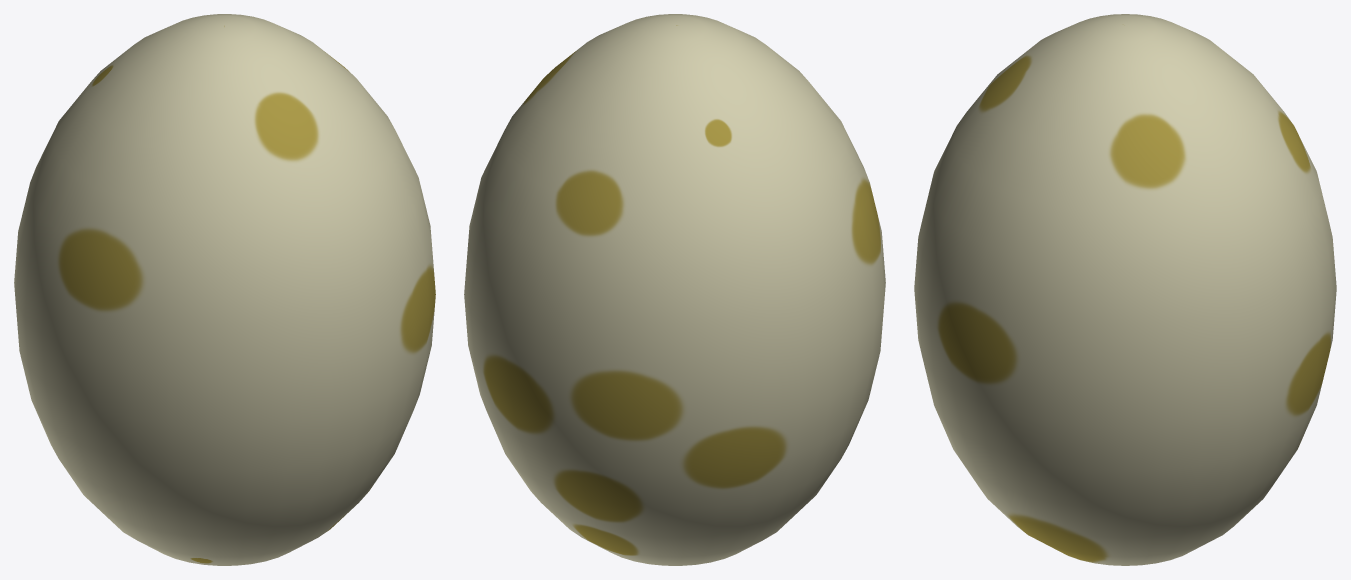
Rendered from egg.fbx.
3 views of the same model, side by side, from view 1: azimuth 30°, elevation 25°; view 2: azimuth 150°, elevation 25°; view 3: azimuth 270°, elevation 25° (orthographic).
Visible parts, largest first — view 1: 구체; view 2: 구체; view 3: 구체.
Boxes of the visible parts, <box> form: 구체: <box>14,14,435,565</box>; 구체: <box>464,14,885,565</box>; 구체: <box>914,14,1336,565</box>.
Bounding box in the file's own units: 2 × 2 × 2.75.
Materials: 1 (1 with a texture image).
